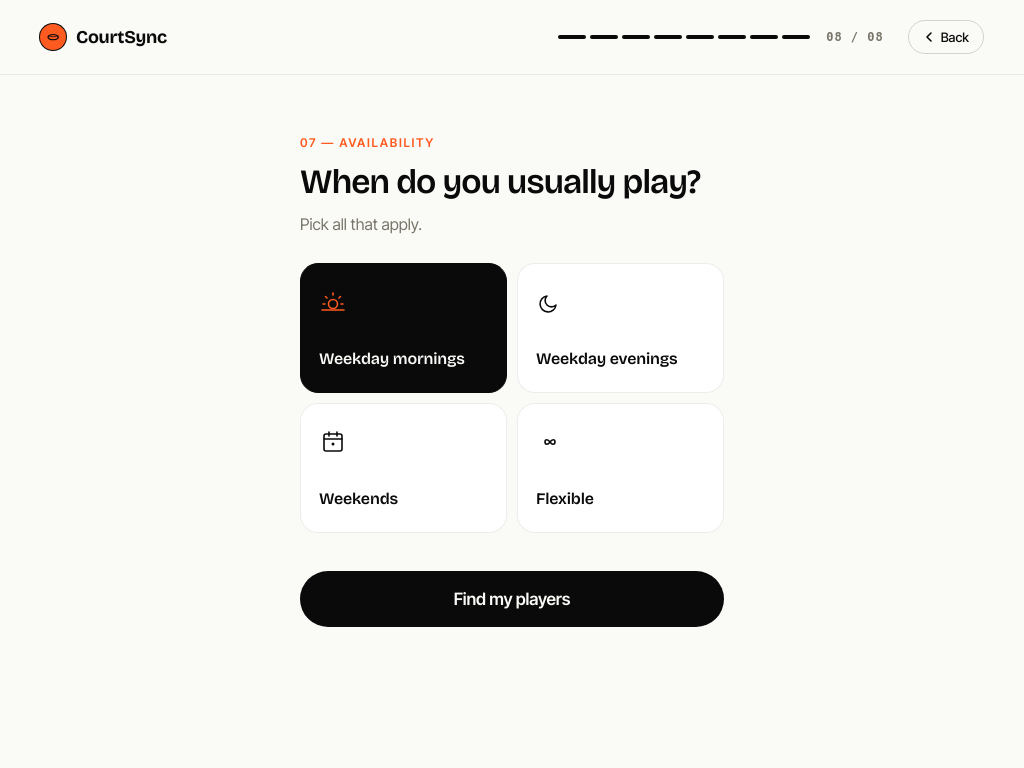
Test: OnboardingFlow › Avail CTA on UNAUTH user lands on VerifyEmail + flags find-players
Click the button "Find my players" at (512, 599), box [300,571,724,627]
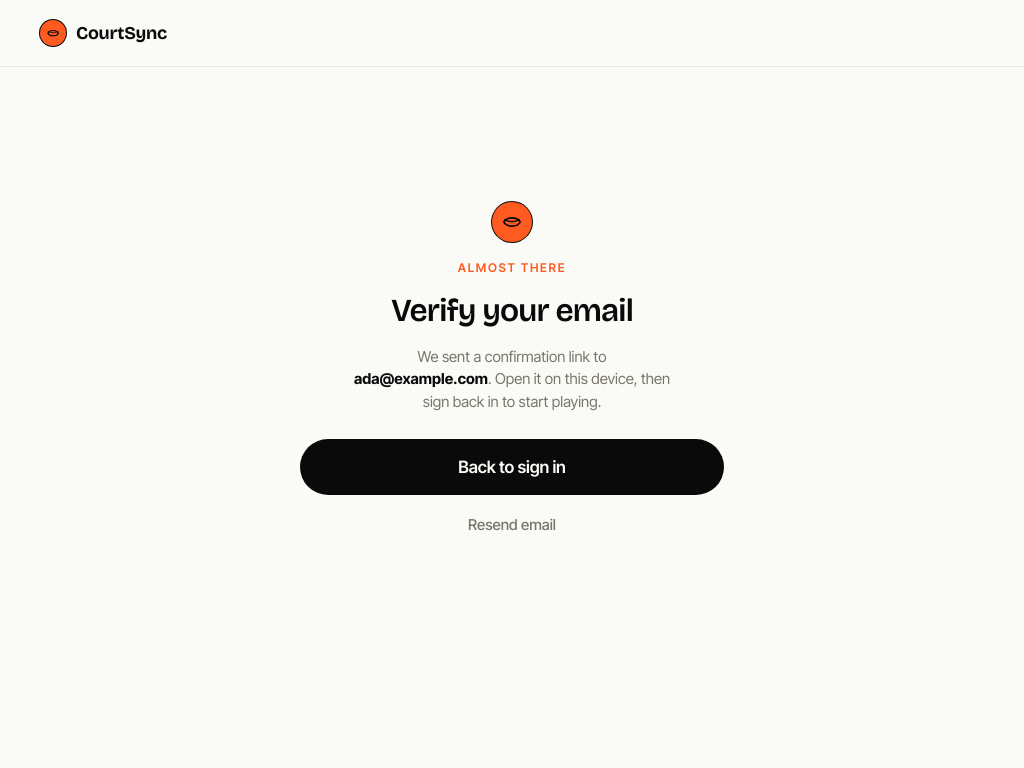
Check: the heading "Verify your email" is shown, box [391,293,633,328]
